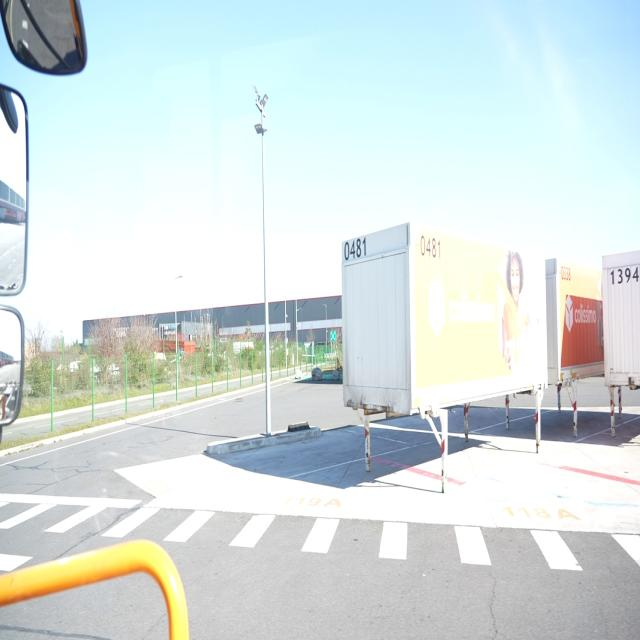Code: (417, 231, 444, 266), (607, 263, 640, 287), (342, 235, 370, 263)
